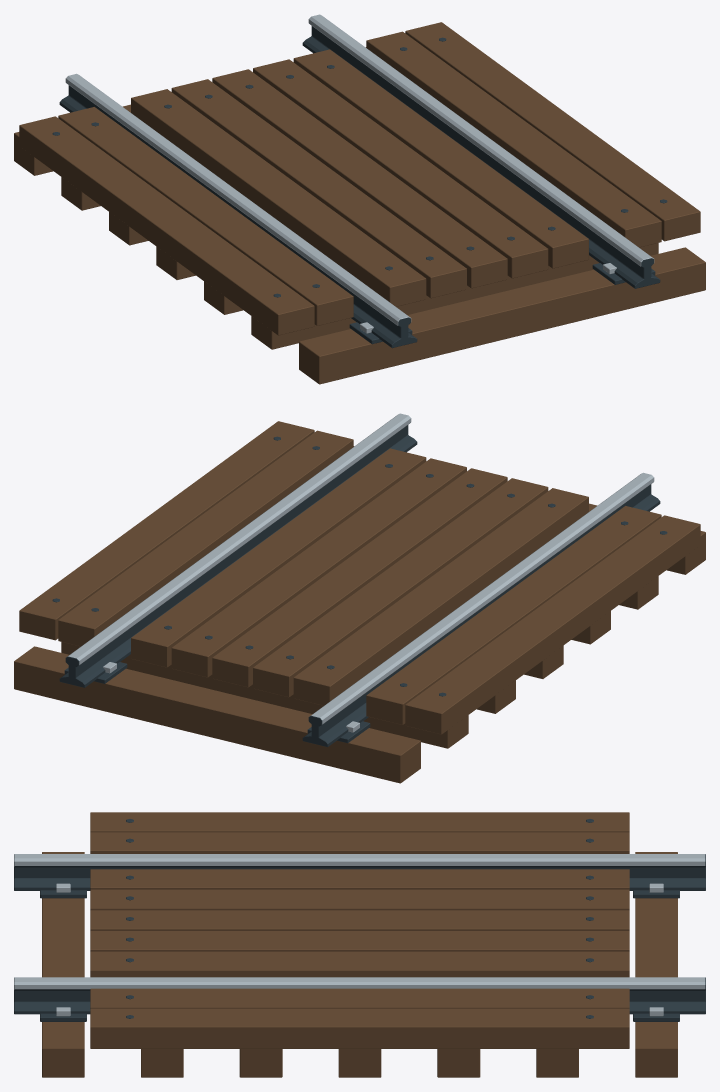
File: b13_timber_grade_rail_crossing.glb
3 renders of one model, top to bottom at view 1: azimuth 30°, elevation 25°; view 2: azimuth 150°, elevation 25°; view 3: azimuth 270°, elevation 25°, orthographic. The views are drawn at different scales.
Visible parts, largest first — view 1: b13_timber_grade_rail_crossing; view 2: b13_timber_grade_rail_crossing; view 3: b13_timber_grade_rail_crossing.
Boxes of the visible parts, x1,y1,x2,y2 form: b13_timber_grade_rail_crossing: [14, 14, 705, 384]; b13_timber_grade_rail_crossing: [14, 413, 705, 783]; b13_timber_grade_rail_crossing: [14, 812, 705, 1077].
Bounding box in the file's own units: 2.5 × 0.334 × 3.4.
